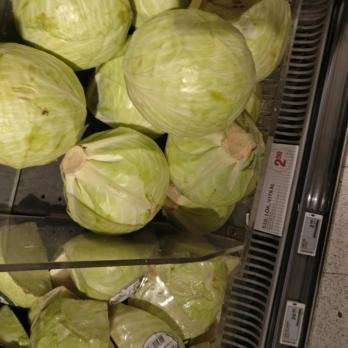Cabbage: (0, 0, 281, 238), (0, 253, 235, 348)
